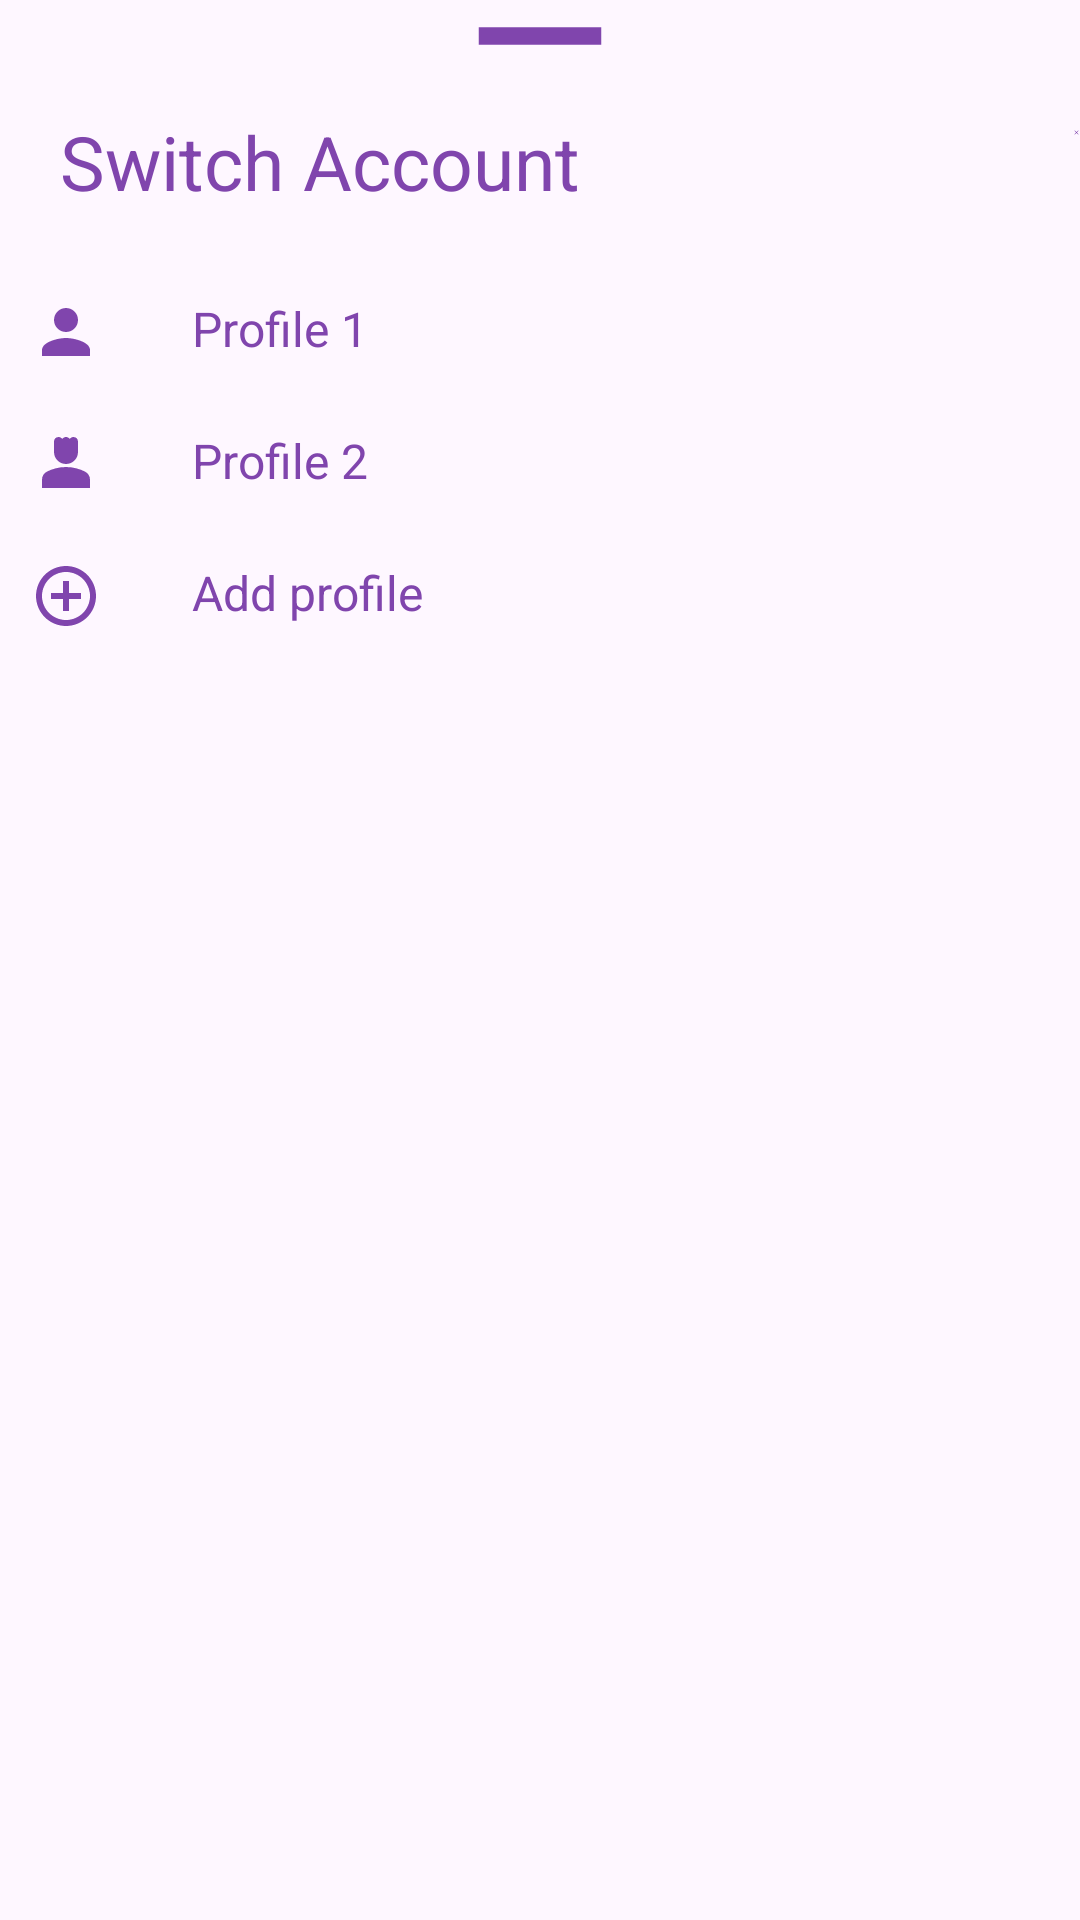

Icons on this 1080px x 1920px Android screen, each with its box as (x1, y1, x2, y2):
add circle: (36, 566, 96, 626)
person: (42, 308, 90, 356), (42, 437, 90, 488)
